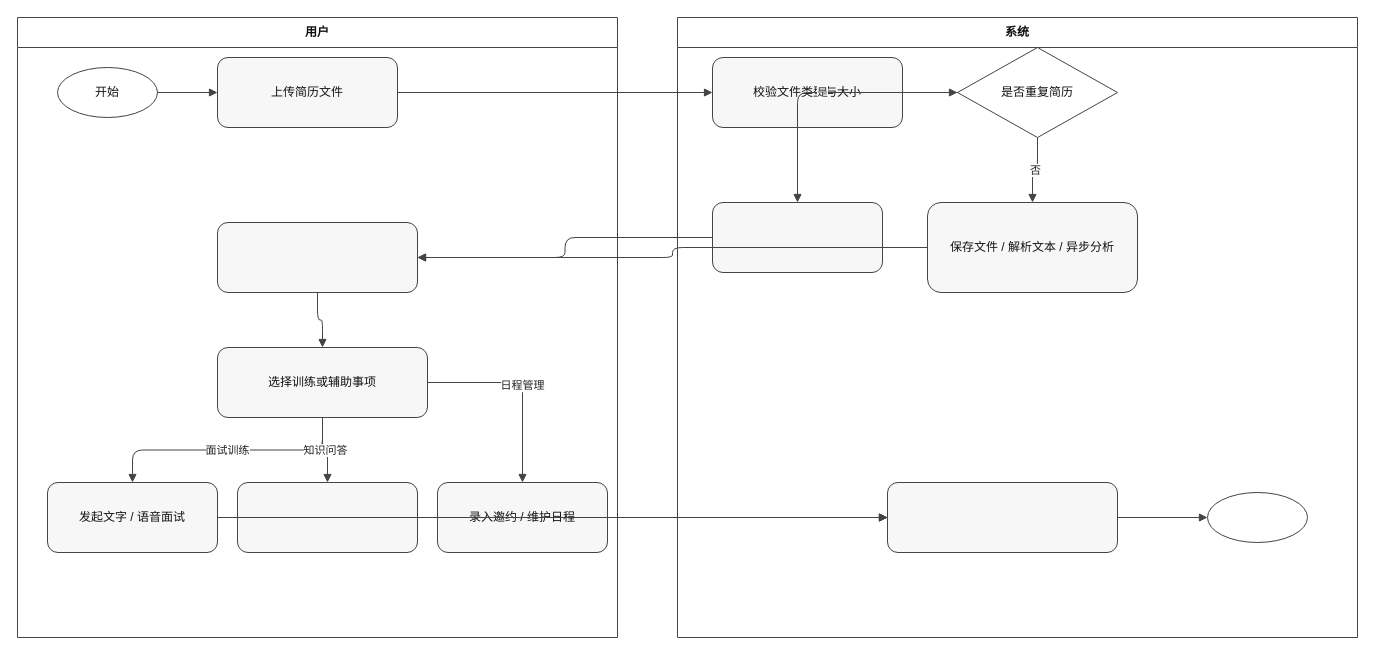
This 1375x655 diagram has some shape labels left out. Here are the shapes that lost their labels. From the top down, the centre of each, then its label:
At (317,257): "查看简历分析结果".
At (797,237): "返回历史分析记录".
At (327,517): "上传知识库 / 发起问答".
At (1002,517): "保存面试 / 问答 / 日程记录".
At (1257,517): "结束".
